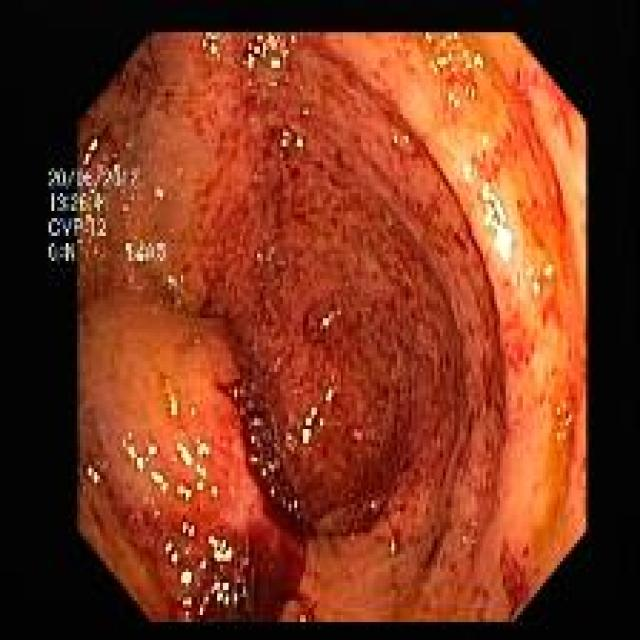ulcerative-colitis: (51, 33, 586, 622)
